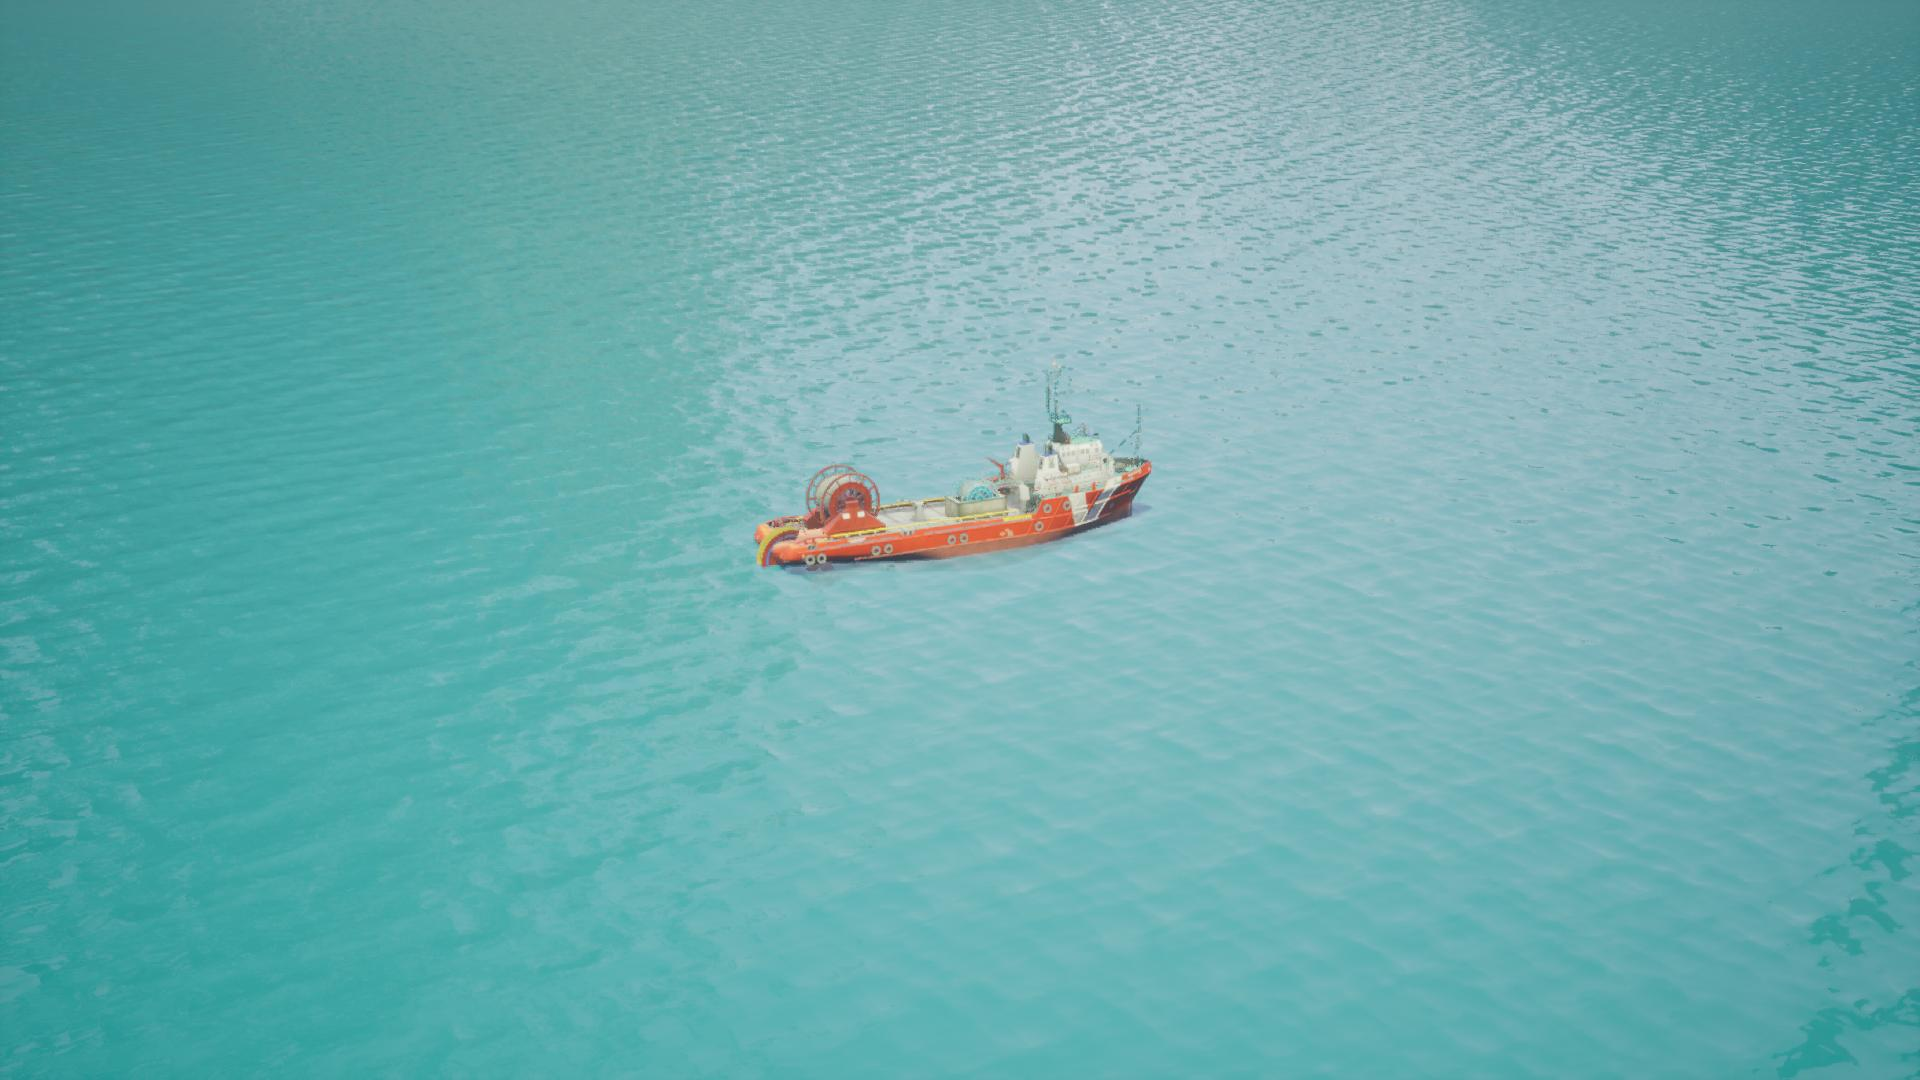Tug Boat: (754, 375, 1154, 580)
